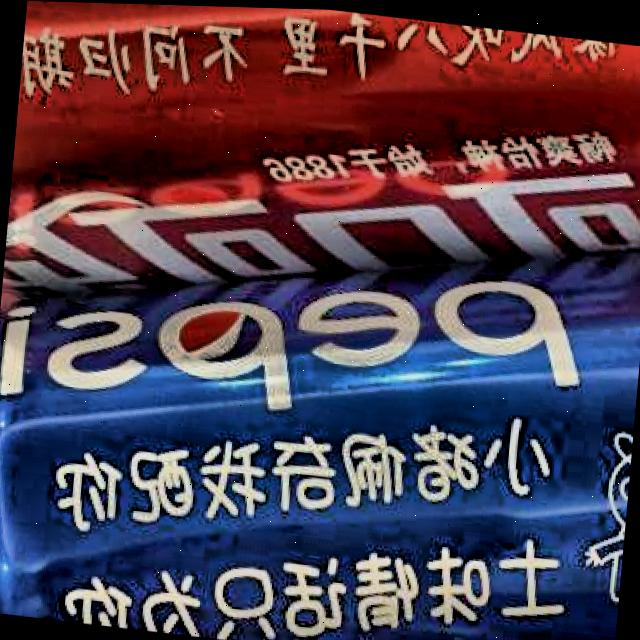metal: (0, 156, 640, 640), (0, 0, 640, 400)
